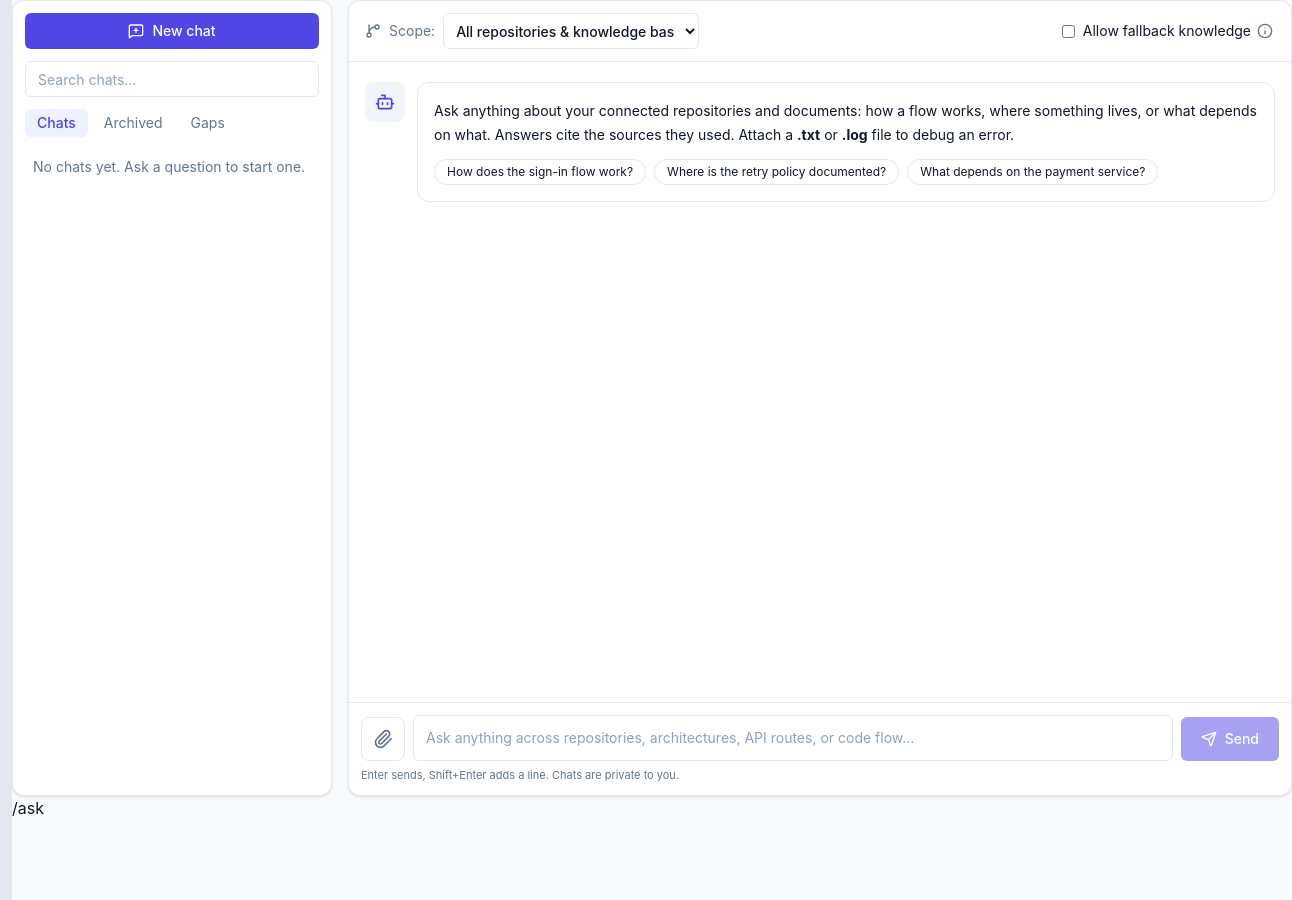
Scenario: Ask: a new chat › explains fallback knowledge in an (i) tooltip that opens on click and closes on Escape
Click the button named "About fallback knowledge": coordinates (1265, 31) x1=1255 y1=21 x2=1275 y2=41
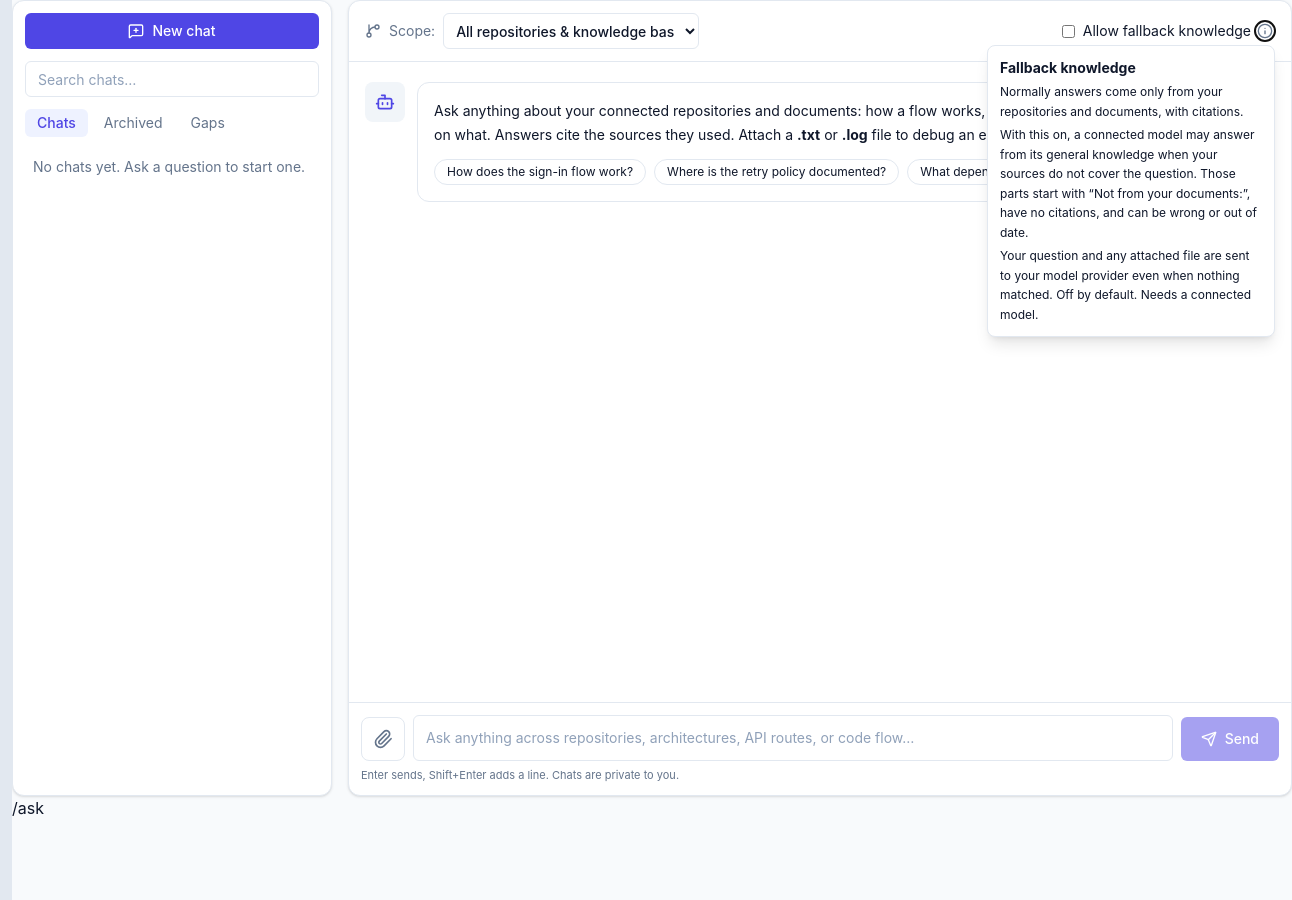
Now the tooltip shows "Not from your documents:", box x1=1000 y1=127 x2=1257 y2=240
Now the tooltip shows "sent to your model provider even when nothing matched", box x1=1000 y1=248 x2=1251 y2=322
Now the button named "About fallback knowledge" is expanded, box x1=1255 y1=21 x2=1275 y2=41
Press Escape
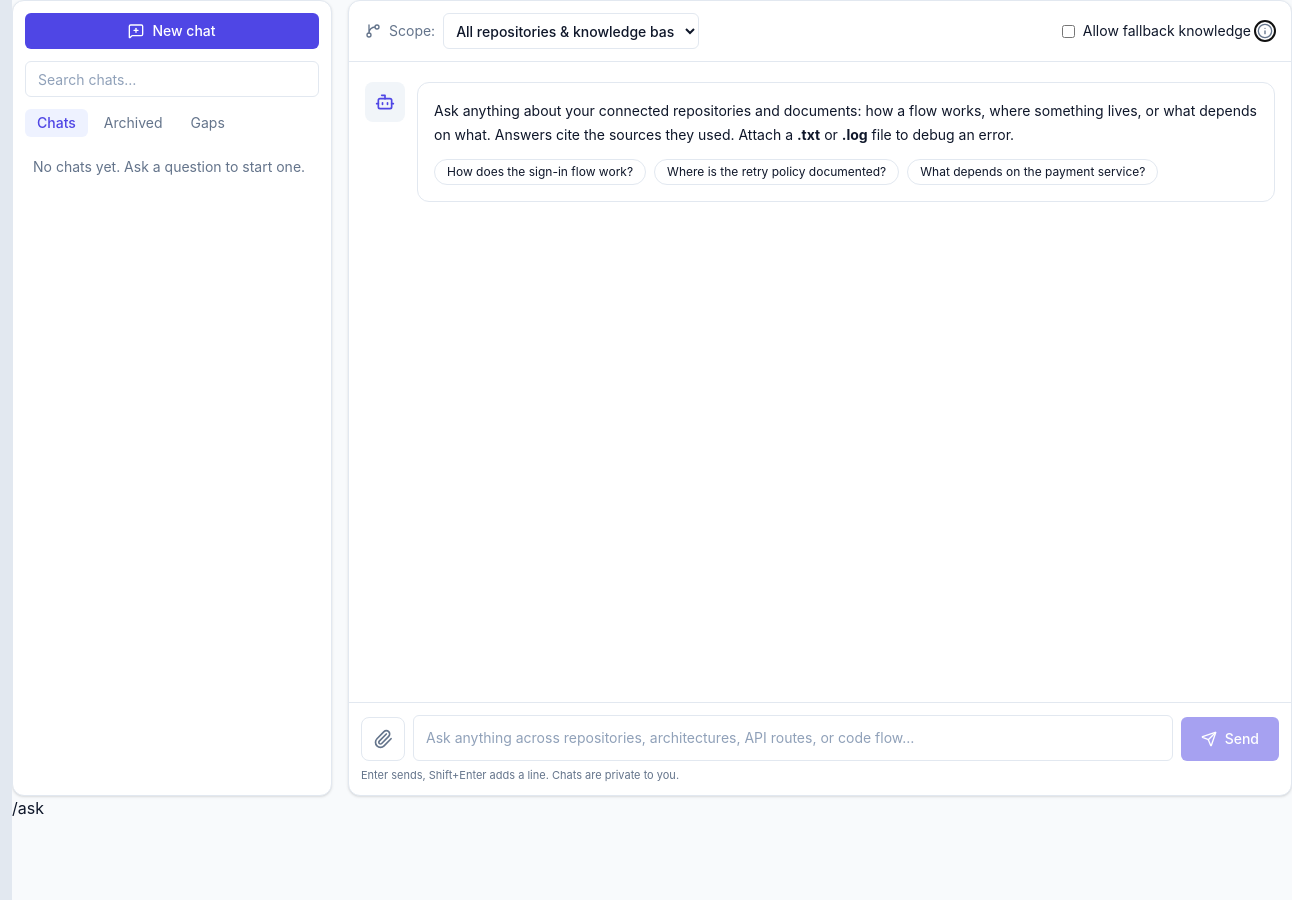
Now the tooltip is gone
